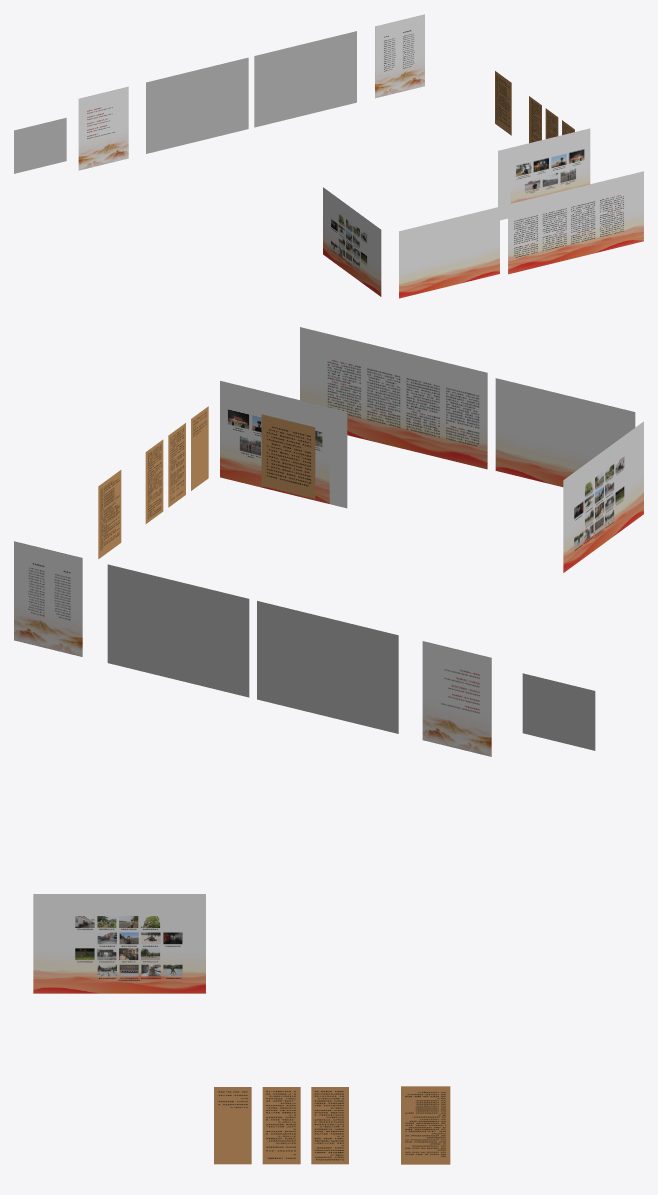
3 views of the same model, one above another, from view 1: azimuth 30°, elevation 25°; view 2: azimuth 150°, elevation 25°; view 3: azimuth 270°, elevation 25° (orthographic). The views are drawn at different scales.
Parts seen in each view (by area): view 1: 13中队_建设成就, 13中队_发展历程右, 13中队_发展历程左, 13中队_军营文化, 13中队_重大任务, 13中队_官兵风采, 13中队_历史沿革, 13中队_历任主官, 13中队_前言, 13中队_集体荣誉, 13中队_个人荣誉左; view 2: 13中队_建设成就, 13中队_发展历程右, 13中队_发展历程左, 13中队_军营文化, 13中队_重大任务, 13中队_官兵风采, 13中队_历史沿革, 13中队_历任主官, 13中队_前言, 13中队未来寄语, 13中队_集体荣誉, 13中队_个人荣誉左 (+2 smaller); view 3: 13中队_官兵风采, 13中队_集体荣誉, 13中队_个人荣誉中, 13中队_个人荣誉右, 13中队_个人荣誉左.
Part boxes in pixels (left/top/right/bottom): 13中队_建设成就: left=508, top=171, right=643, bottom=274; 13中队_发展历程右: left=254, top=31, right=356, bottom=127; 13中队_发展历程左: left=146, top=57, right=248, bottom=153; 13中队_军营文化: left=399, top=207, right=499, bottom=298; 13中队_重大任务: left=498, top=128, right=590, bottom=220; 13中队_官兵风采: left=323, top=187, right=381, bottom=296; 13中队_历史沿革: left=78, top=86, right=128, bottom=170; 13中队_历任主官: left=375, top=14, right=424, bottom=98; 13中队_前言: left=14, top=117, right=66, bottom=173; 13中队_集体荣誉: left=495, top=71, right=511, bottom=135; 13中队_个人荣誉左: left=529, top=96, right=541, bottom=143; 13中队_建设成就: left=300, top=327, right=487, bottom=469; 13中队_发展历程右: left=107, top=564, right=249, bottom=697; 13中队_发展历程左: left=257, top=601, right=398, bottom=733; 13中队_军营文化: left=495, top=378, right=635, bottom=486; 13中队_重大任务: left=220, top=381, right=347, bottom=508; 13中队_官兵风采: left=563, top=421, right=643, bottom=572; 13中队_历史沿革: left=422, top=641, right=491, bottom=756; 13中队_历任主官: left=14, top=541, right=82, bottom=656; 13中队_前言: left=522, top=673, right=595, bottom=750; 13中队未来寄语: left=261, top=414, right=315, bottom=498; 13中队_集体荣誉: left=98, top=470, right=121, bottom=558; 13中队_个人荣誉左: left=145, top=439, right=163, bottom=523; 13中队_官兵风采: left=33, top=894, right=205, bottom=993; 13中队_集体荣誉: left=401, top=1086, right=450, bottom=1164; 13中队_个人荣誉中: left=262, top=1087, right=300, bottom=1164; 13中队_个人荣誉右: left=214, top=1087, right=251, bottom=1164; 13中队_个人荣誉左: left=311, top=1087, right=348, bottom=1164.
Bounding box in the file's own units: 1325 × 216 × 1154.
